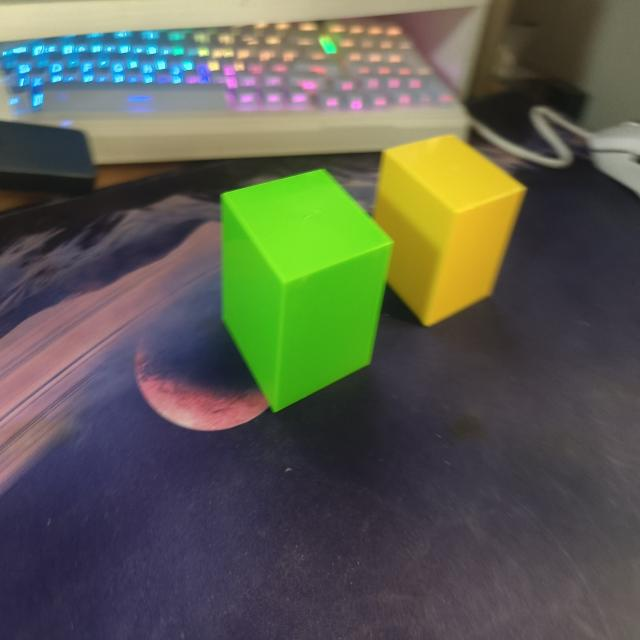green: (200, 159, 397, 416)
yellow: (380, 131, 527, 329)
